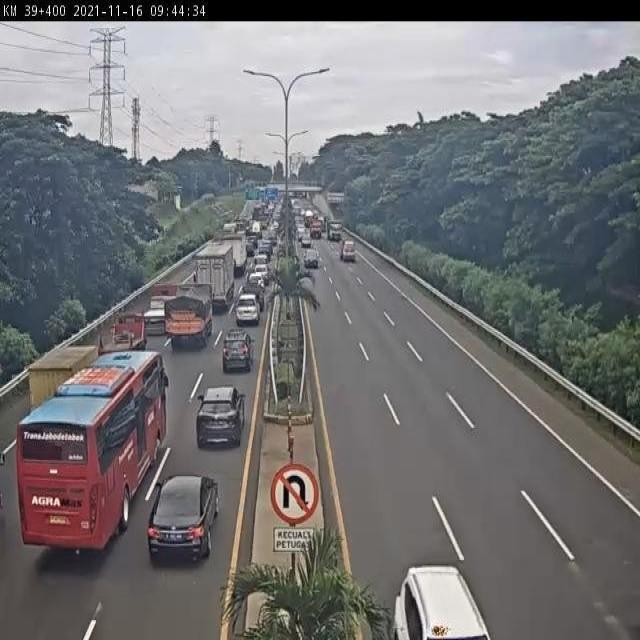Car: (394, 564, 491, 640), (148, 474, 220, 562), (194, 387, 246, 449), (222, 328, 255, 373), (235, 294, 261, 325), (303, 248, 319, 268), (300, 234, 312, 248)
Truck: (26, 343, 104, 416), (164, 282, 217, 353), (194, 243, 236, 309), (97, 306, 148, 358), (144, 283, 181, 338), (219, 232, 248, 274), (325, 218, 343, 242), (339, 239, 356, 262), (310, 219, 322, 239)
